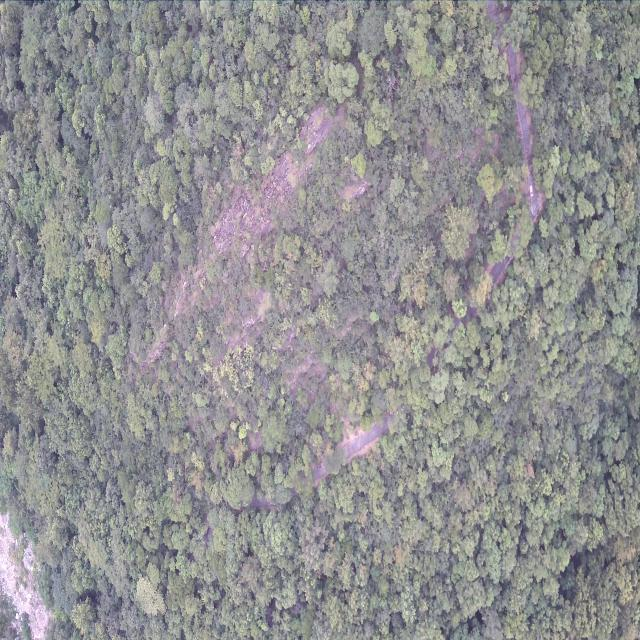drone: (267, 291, 271, 299)
